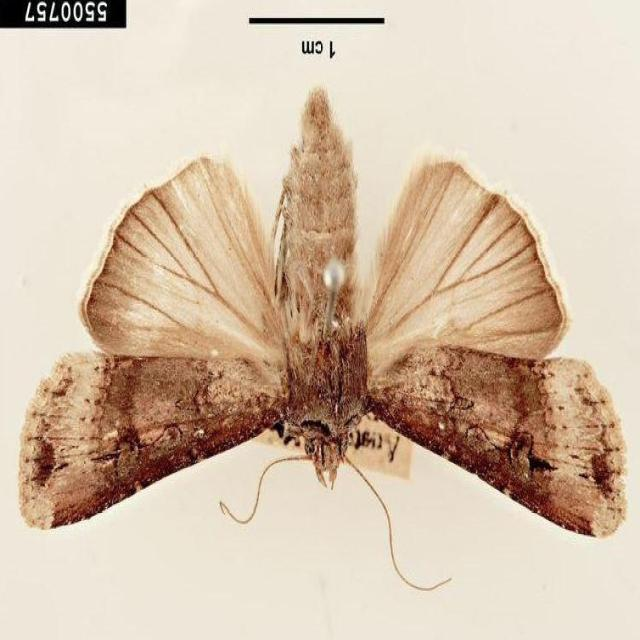black cutworm: (12, 80, 632, 599)
